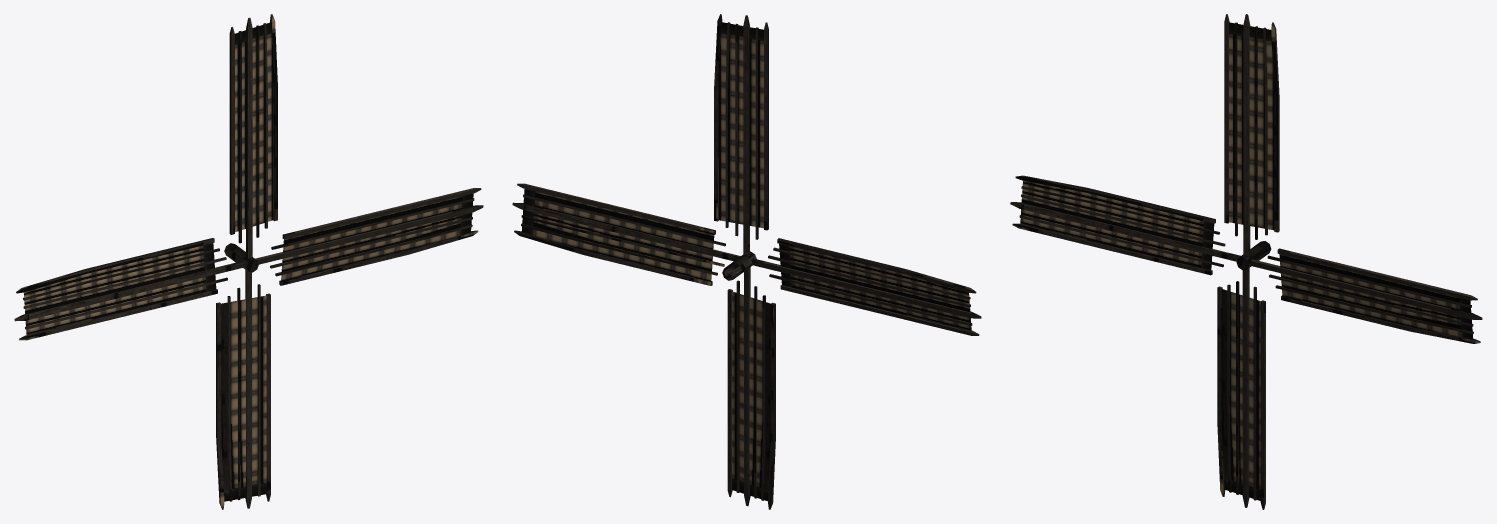
The model's file is MS_WindmillSails.fbx.
3 views of the same model, side by side, from view 1: azimuth 30°, elevation 25°; view 2: azimuth 150°, elevation 25°; view 3: azimuth 330°, elevation 25° (orthographic).
Parts seen in each view (by area): view 1: Cube.006; view 2: Cube.006; view 3: Cube.006.
Part boxes in pixels (x1,y1,x2,y2): Cube.006: (14,14,483,509); Cube.006: (512,14,981,509); Cube.006: (1010,14,1482,509).
Size of the model in its own units: 2187 by 2187 by 180.
1 material, 1 textured.
